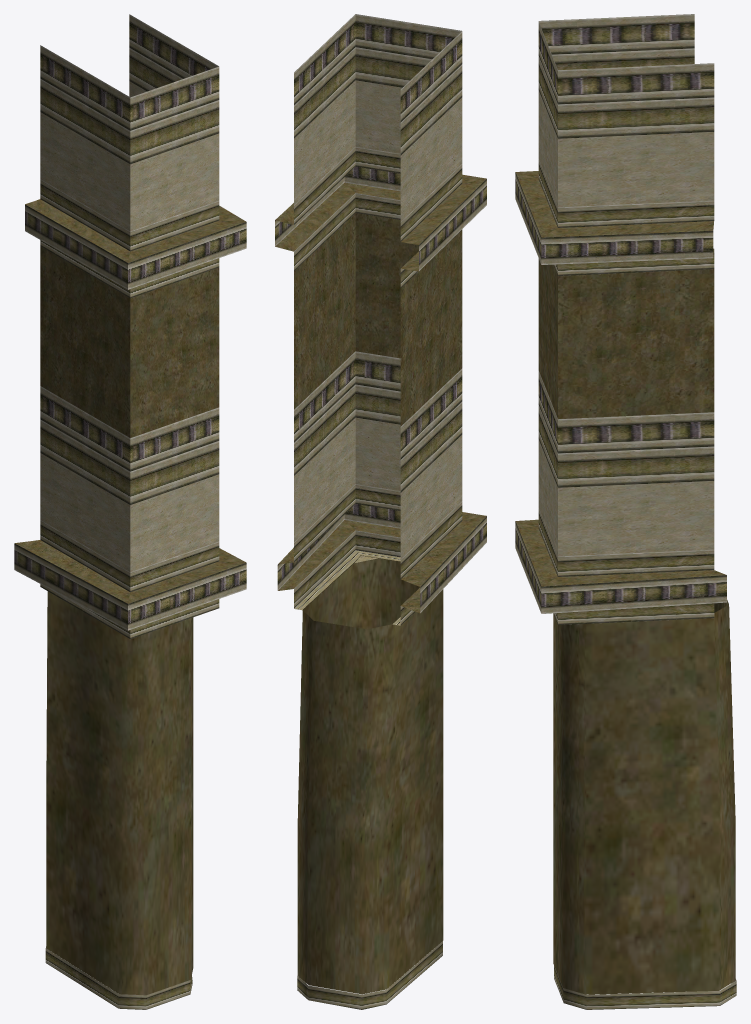
The model's file is CH09_SMAUG_PLAYSURFACE_LAIR115.fbx.
3 views of the same model, side by side, from view 1: azimuth 30°, elevation 25°; view 2: azimuth 150°, elevation 25°; view 3: azimuth 270°, elevation 25° (orthographic). The views are drawn at different scales.
Visible parts, largest first — view 1: CH09_SMAUG_PLAYSURFACE_LAIR115; view 2: CH09_SMAUG_PLAYSURFACE_LAIR115; view 3: CH09_SMAUG_PLAYSURFACE_LAIR115.
Boxes of the visible parts, x1,y1,x2,y2 form: CH09_SMAUG_PLAYSURFACE_LAIR115: [14, 14, 246, 1009]; CH09_SMAUG_PLAYSURFACE_LAIR115: [275, 14, 486, 1009]; CH09_SMAUG_PLAYSURFACE_LAIR115: [515, 14, 736, 1009].
Size of the model in its own units: 33580 by 192145 by 40658.
Materials: 6 (6 with a texture image).
